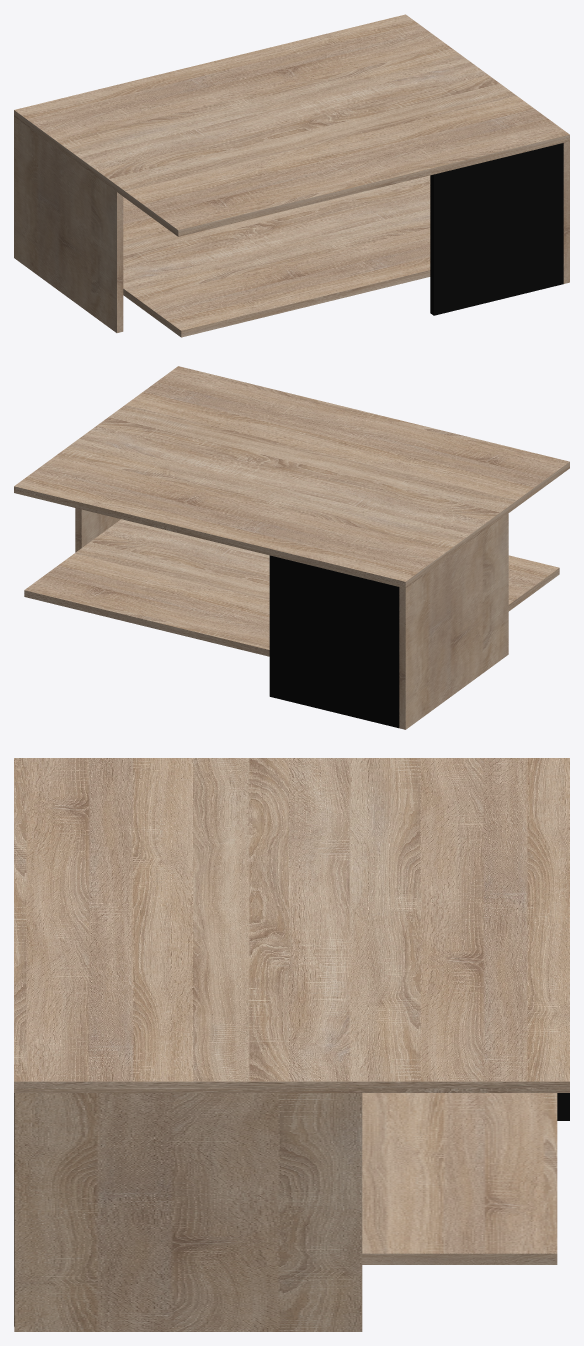
The model's file is table-6.gltf.
The picture shows the model from 3 angles, top to bottom: view 1: azimuth 30°, elevation 25°; view 2: azimuth 150°, elevation 25°; view 3: azimuth 270°, elevation 25°; orthographic projection. The views are drawn at different scales.
Visible parts, largest first — view 1: Coffee table; view 2: Coffee table; view 3: Coffee table.
Part boxes in pixels (bbox=[...]): Coffee table: bbox=[14, 14, 569, 337]; Coffee table: bbox=[14, 366, 569, 729]; Coffee table: bbox=[14, 758, 569, 1331].
Bounding box in the file's own units: 1.1 × 0.3972 × 0.799.
2 materials, 1 textured.
